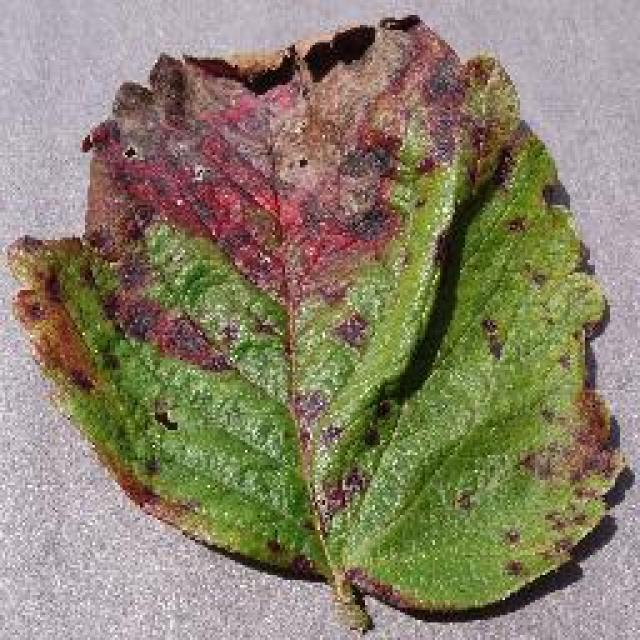Strawberry leaf scorch: (46, 63, 492, 362)
